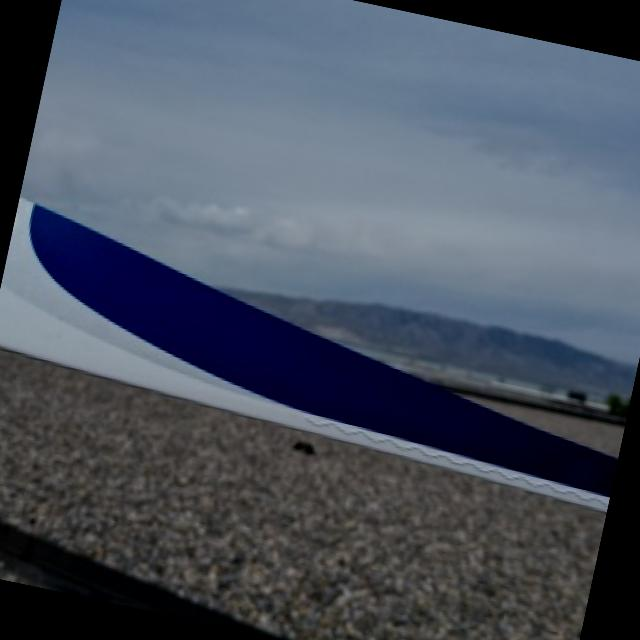healthy: (0, 196, 612, 509)
